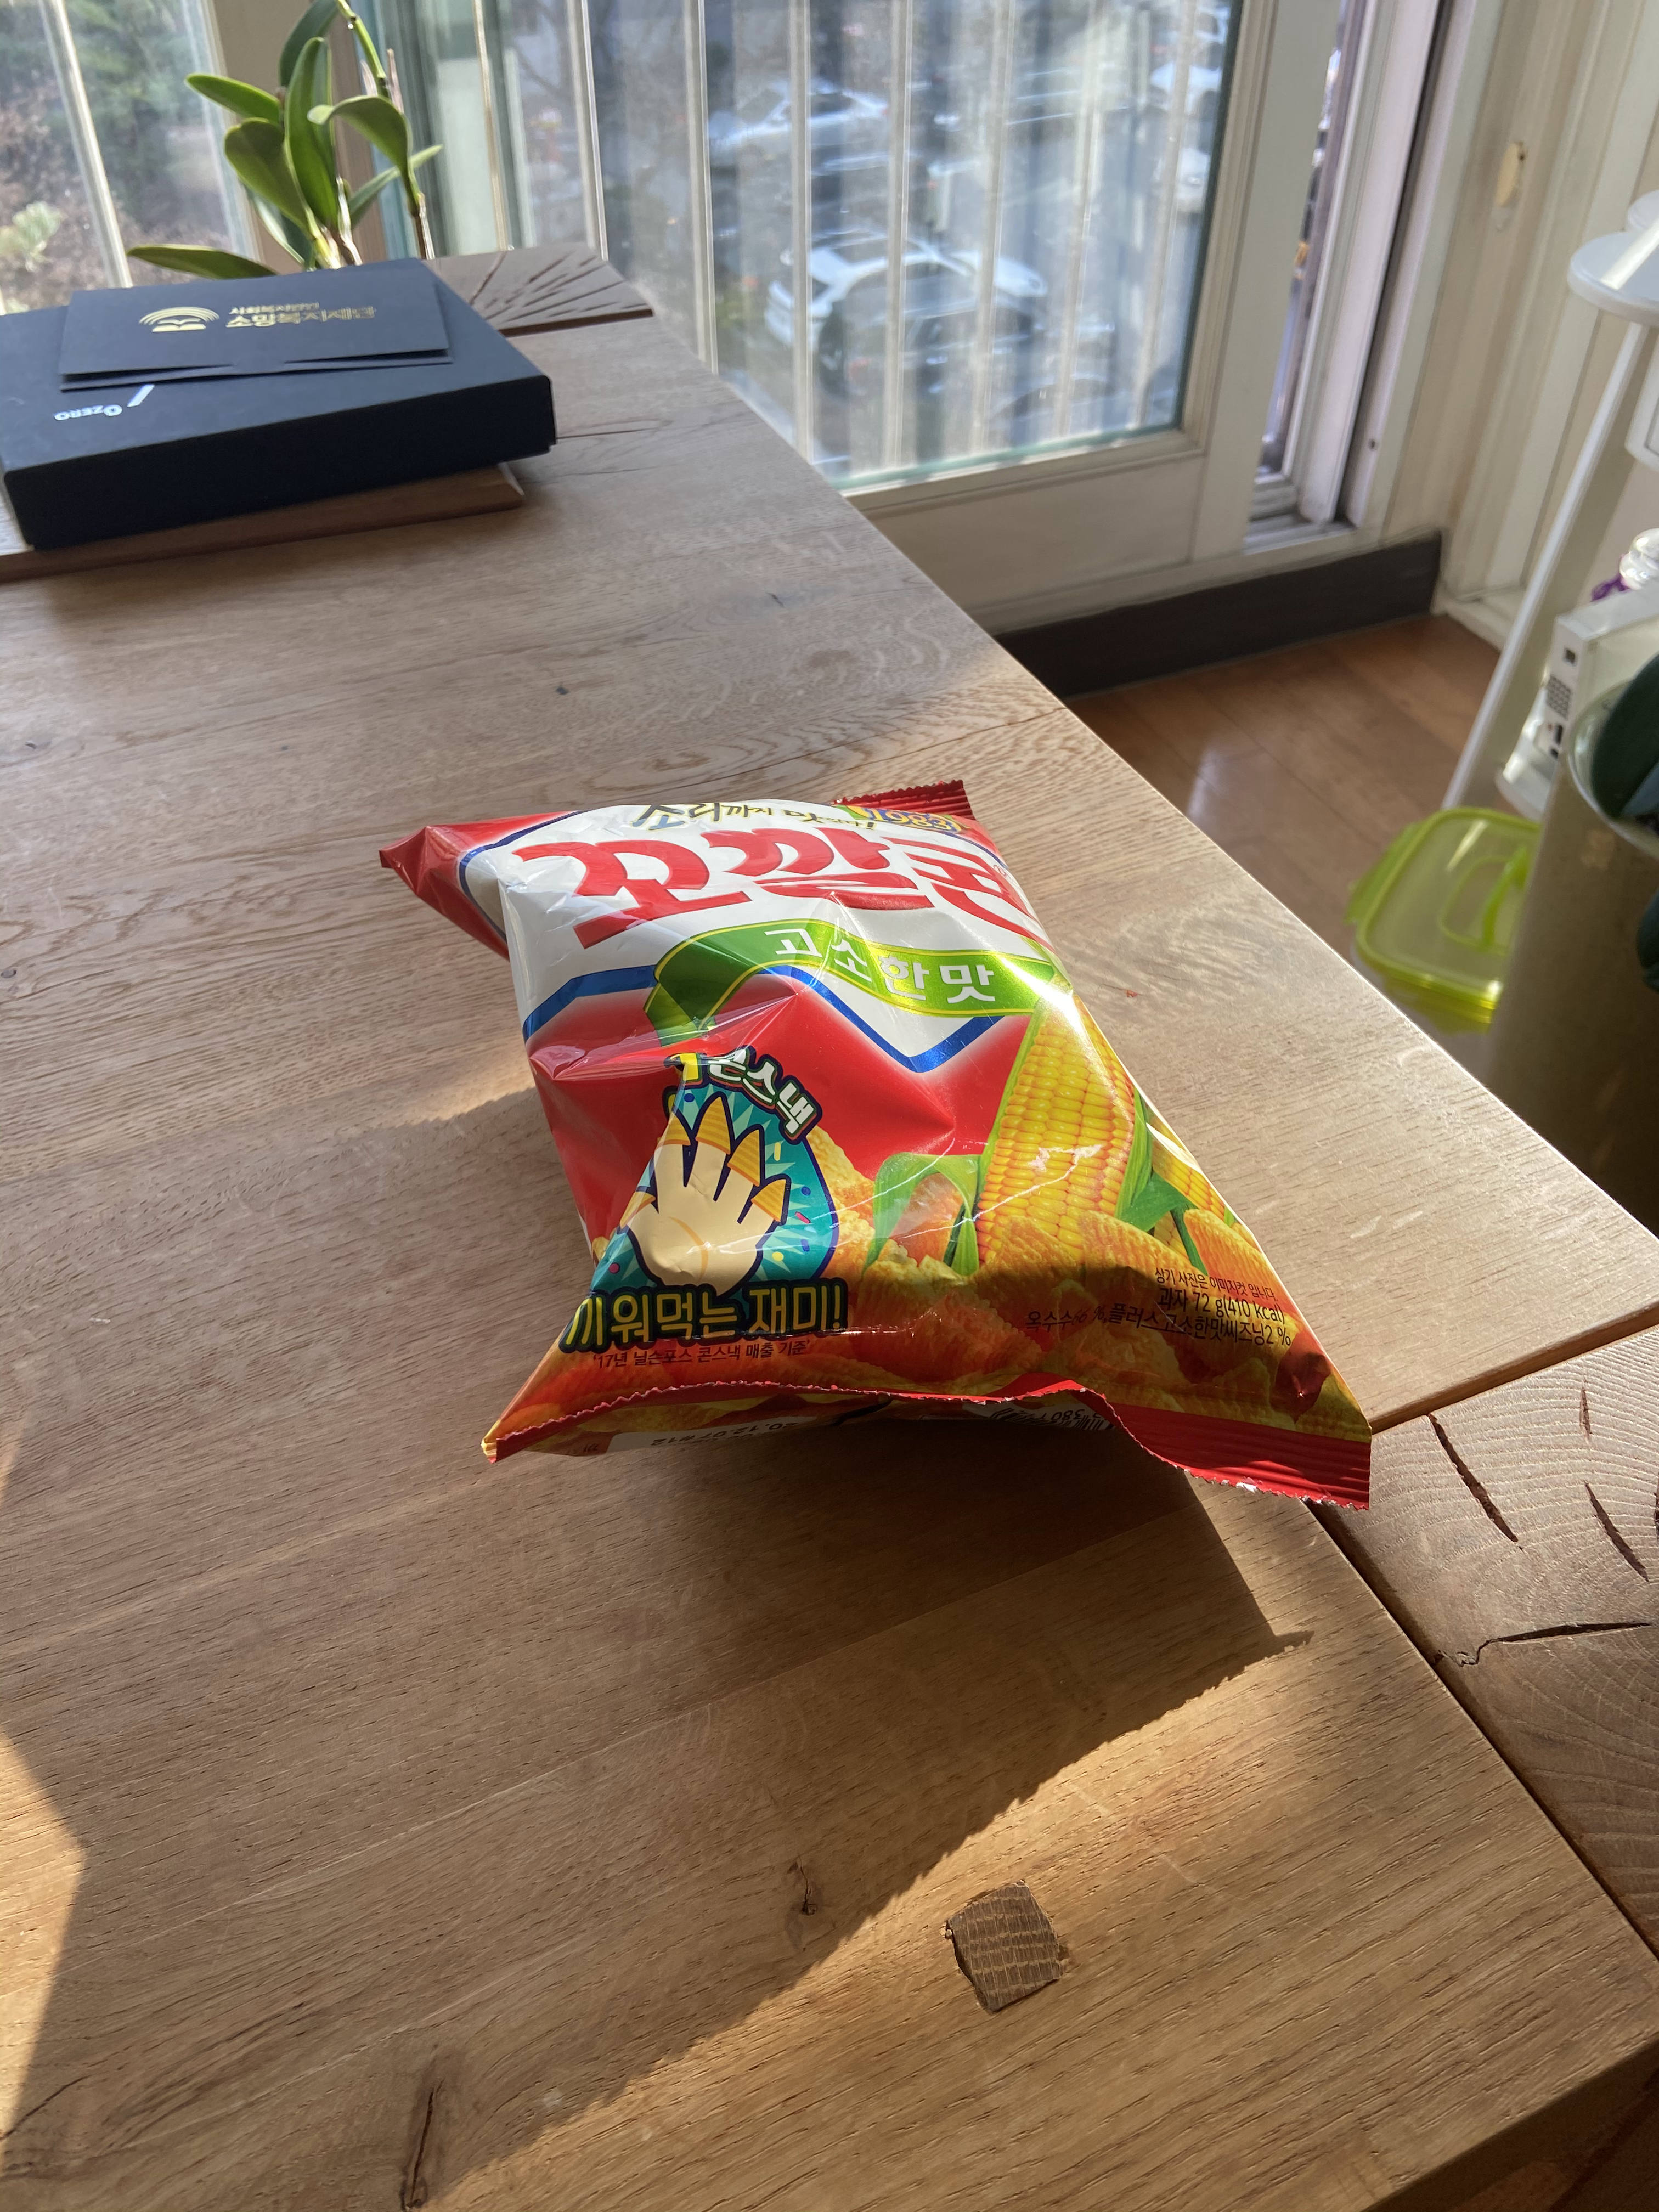ggoggalcon: (366, 752, 1406, 1559)
